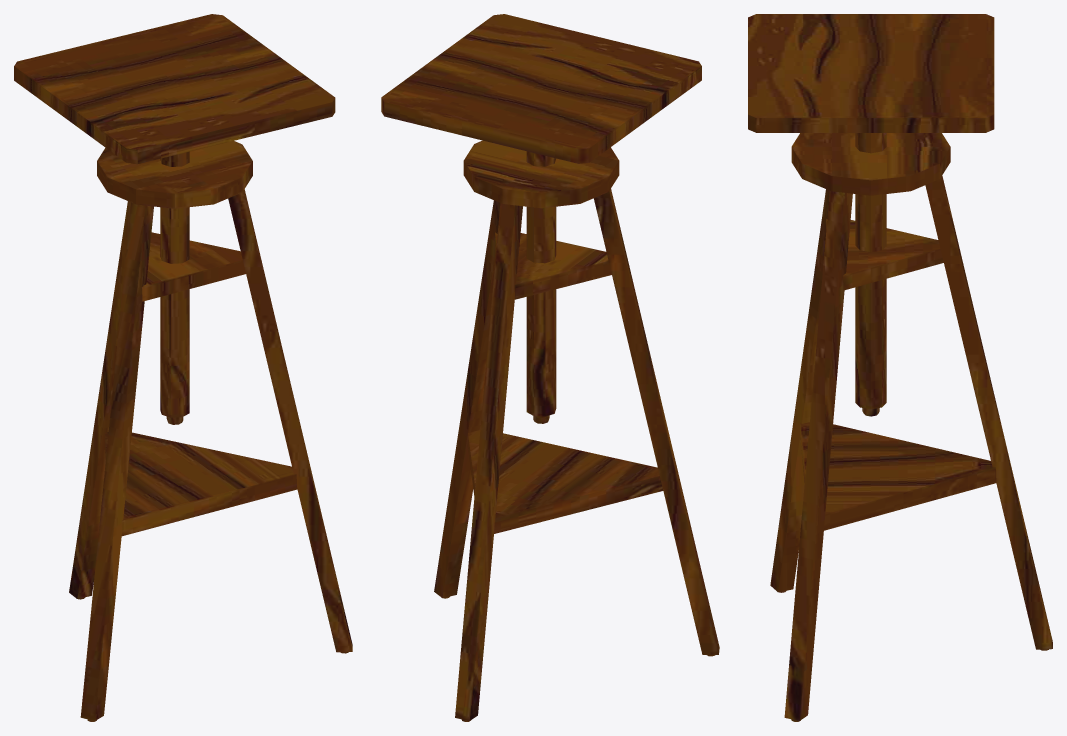
Rendered from sculpture-stand.glb.
3 renders of one model, left to right at view 1: azimuth 30°, elevation 25°; view 2: azimuth 150°, elevation 25°; view 3: azimuth 270°, elevation 25°, orthographic. The views are drawn at different scales.
Visible parts, largest first — view 1: sculpture_stand; view 2: sculpture_stand; view 3: sculpture_stand.
Boxes of the visible parts, left/top/right/bottom form: sculpture_stand: left=14, top=14, right=352, bottom=721; sculpture_stand: left=381, top=14, right=719, bottom=721; sculpture_stand: left=748, top=14, right=1052, bottom=721.
Bounding box in the file's own units: 2.29 × 4.52 × 2.12.
1 material, 1 textured.
